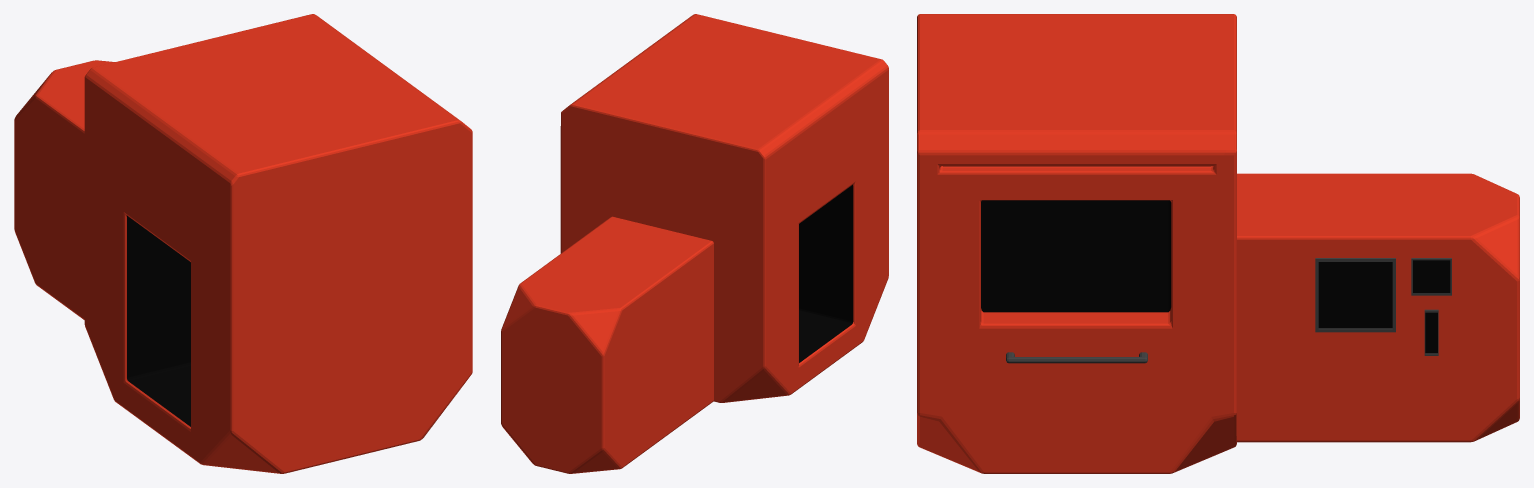
The model's file is Recicler_Alisson3d (1).fbx.
3 renders of one model, left to right at view 1: azimuth 30°, elevation 25°; view 2: azimuth 150°, elevation 25°; view 3: azimuth 270°, elevation 25°, orthographic. The views are drawn at different scales.
Parts seen in each view (by area): view 1: Recicladora; view 2: Recicladora; view 3: Recicladora.
Boxes of the visible parts, <box> form: Recicladora: <box>14,14,472,473</box>; Recicladora: <box>501,14,888,473</box>; Recicladora: <box>917,14,1519,473</box>.
Size of the model in its own units: 450 by 524 by 849.
